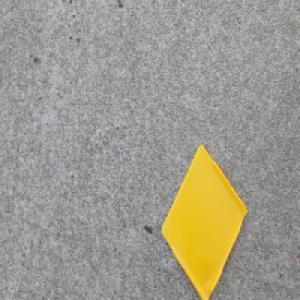PlasticPart: (160, 142, 248, 300)
